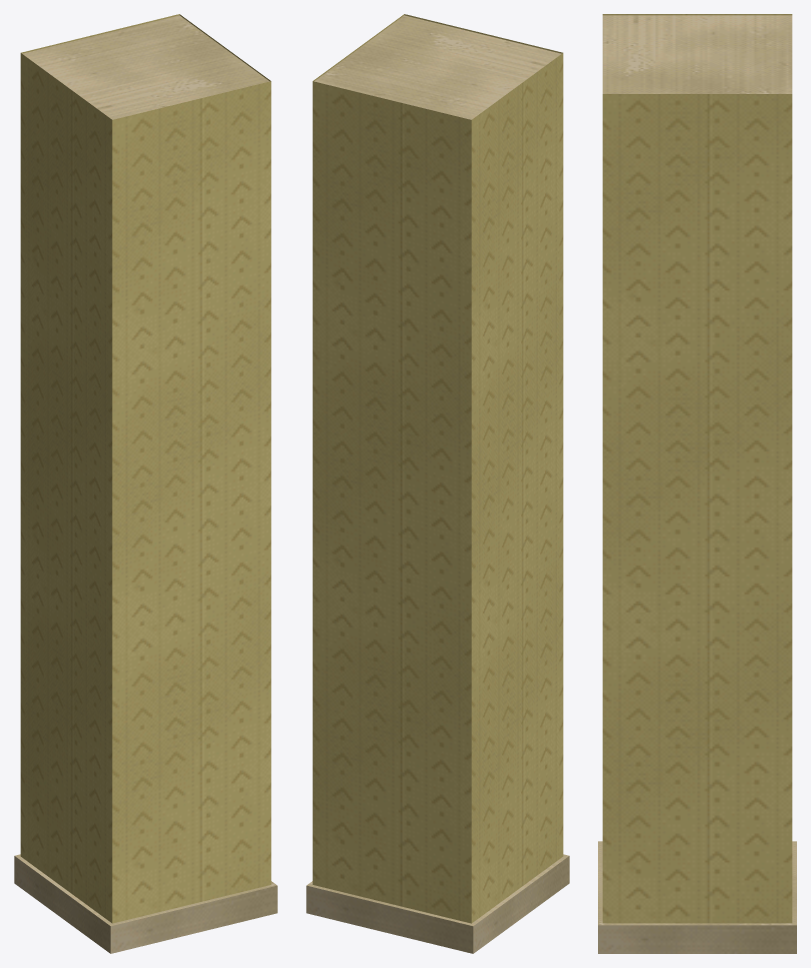
File: back_pillar.obj
3 renders of one model, left to right at view 1: azimuth 30°, elevation 25°; view 2: azimuth 150°, elevation 25°; view 3: azimuth 270°, elevation 25°, orthographic. The views are drawn at different scales.
Parts seen in each view (by area): view 1: back_pillar_wall, back_pillar_trim; view 2: back_pillar_wall, back_pillar_trim; view 3: back_pillar_wall, back_pillar_trim.
Boxes of the visible parts, x1,y1,x2,y2 form: back_pillar_wall: (20,14,271,923); back_pillar_trim: (14,15,277,953); back_pillar_wall: (312,14,563,923); back_pillar_trim: (306,15,569,953); back_pillar_wall: (602,14,792,923); back_pillar_trim: (598,15,796,953).
Size of the model in its own units: 0.63 by 3 by 0.63.
Materials: 2 (2 with a texture image).
